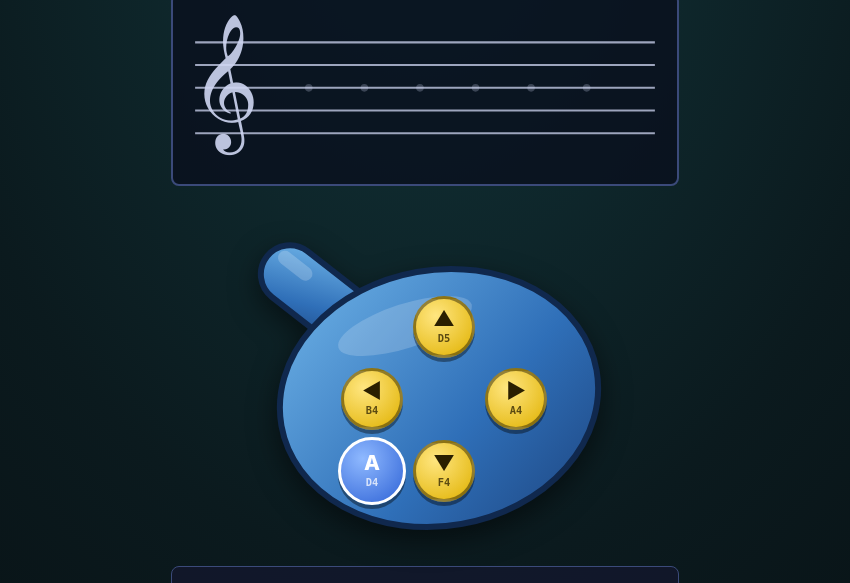
it: App › reset clears a partial snippet
Click the button with test id "pad-a": click(372, 472) x1=338 y1=438 x2=406 y2=506
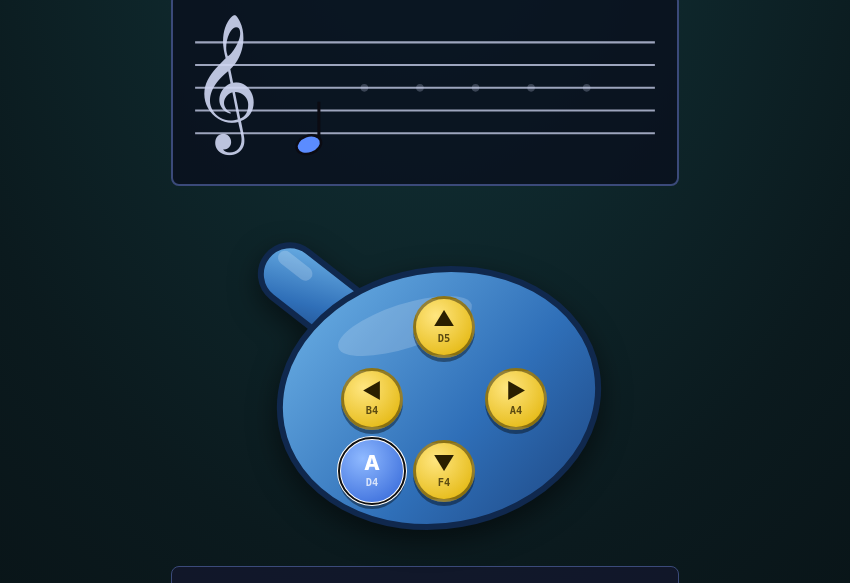
Click the button with test id "pad-c-up": click(444, 328) x1=413 y1=296 x2=475 y2=358
(page scrolled)
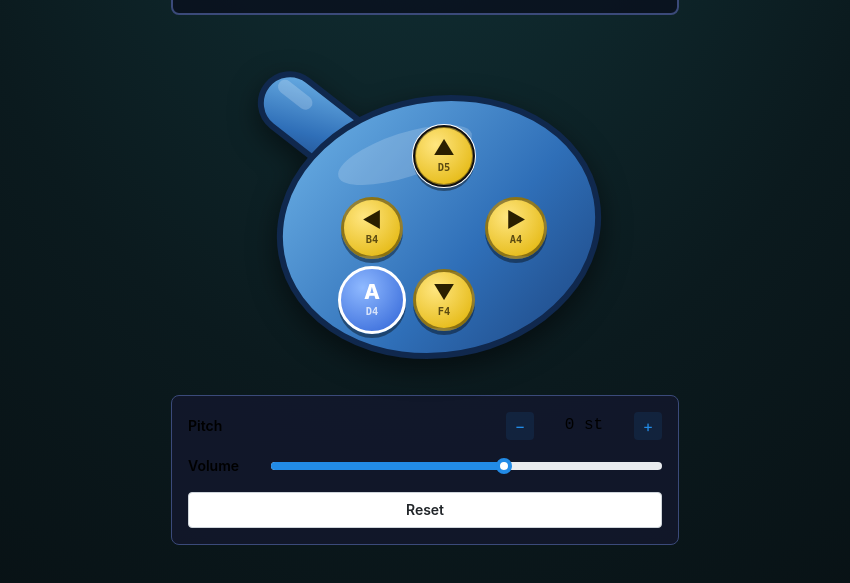
Click the button with test id "reset": click(425, 510) x1=188 y1=492 x2=662 y2=528
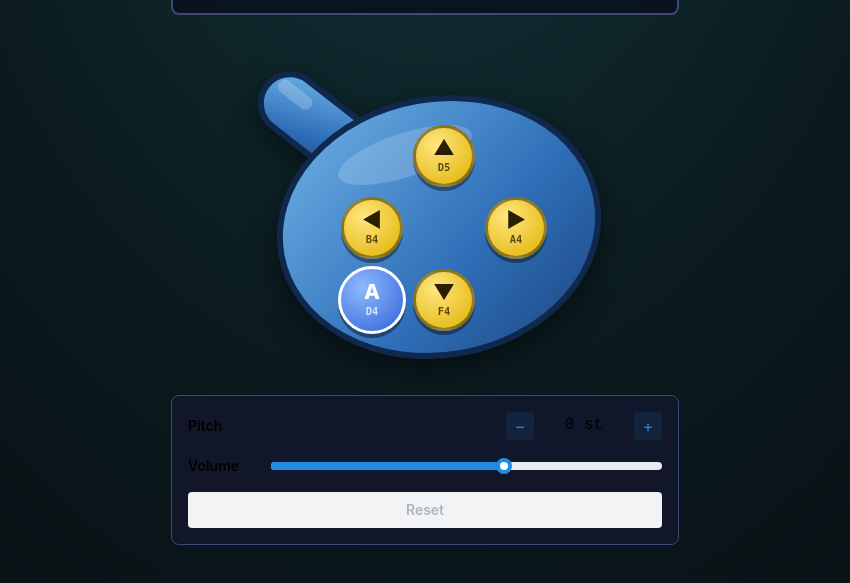
Now the button with test id "reset" is disabled, box x1=188 y1=492 x2=662 y2=528
